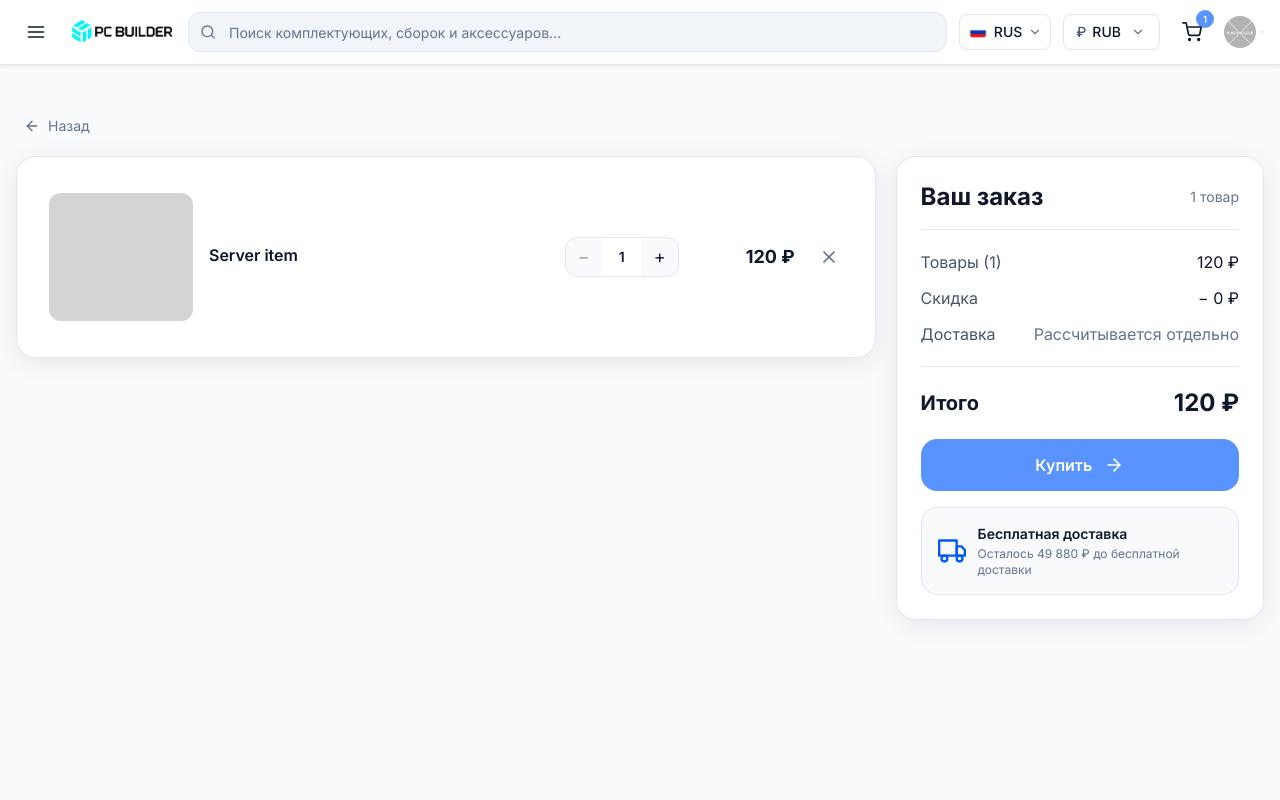
it: fullscreen cart errors › keeps a checkout success state and does not repeat the order after a failed refresh
This screenshot has width=1280, height=800.
Expected: the heading "Server item" is shown, x1=209 y1=245 x2=298 y2=265
Click the button "Купить" at (1080, 465), box x1=921 y1=439 x2=1239 y2=491
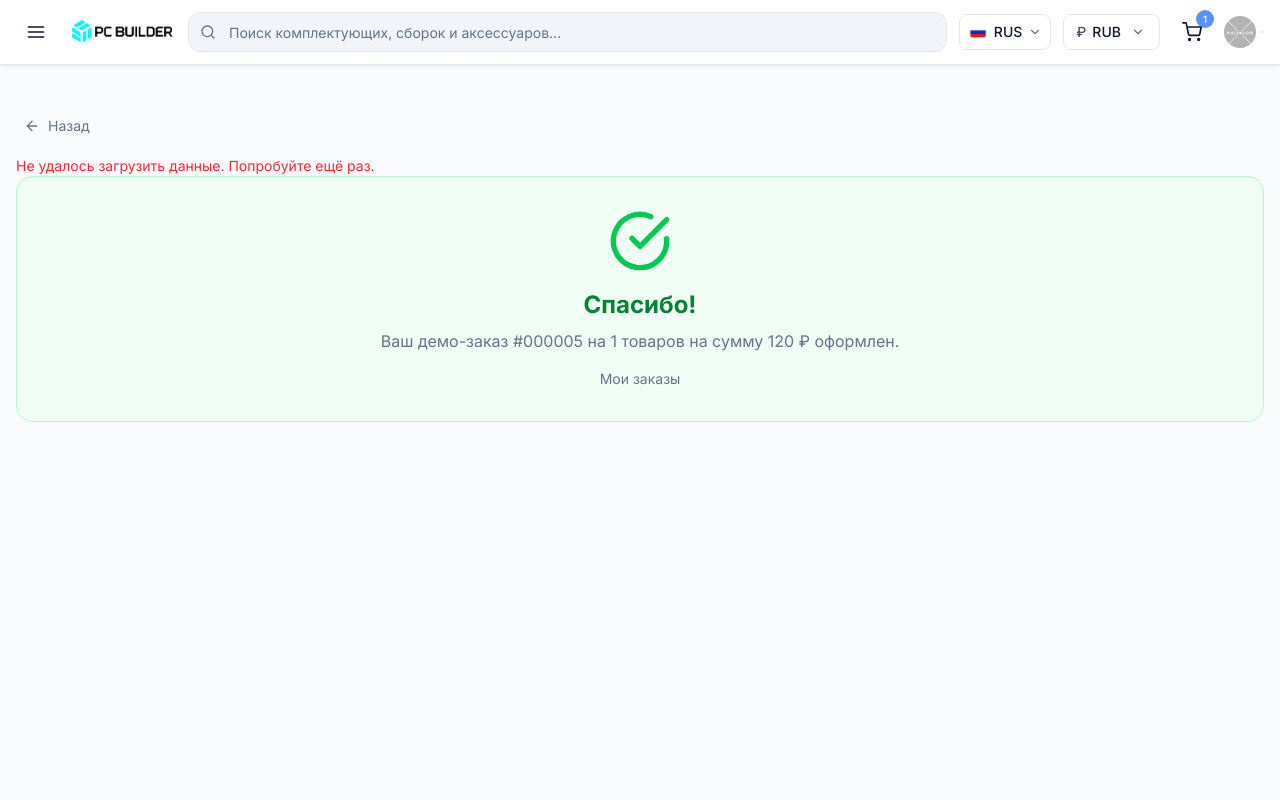
Expected: the heading "Спасибо!" is shown, x1=584 y1=290 x2=696 y2=319
